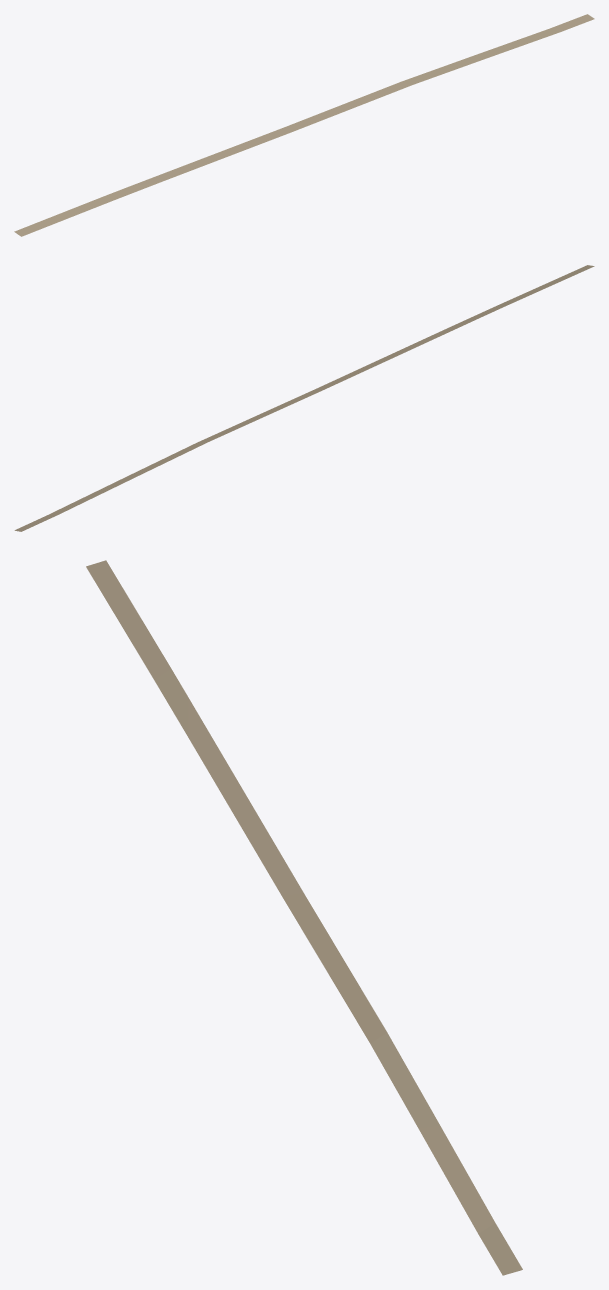
Rendered from farm_-12_-10_track.glb.
3 renders of one model, top to bottom at view 1: azimuth 30°, elevation 25°; view 2: azimuth 210°, elevation 25°; view 3: azimuth 270°, elevation 25°, orthographic. The views are drawn at different scales.
Parts seen in each view (by area): view 1: geometry_0; view 2: geometry_0; view 3: geometry_0.
Part boxes in pixels (x1,y1,x2,y2): geometry_0: [14, 14, 594, 236]; geometry_0: [14, 265, 594, 531]; geometry_0: [86, 560, 522, 1275].
Size of the model in its own units: 245 by 8.88 by 68.15.
